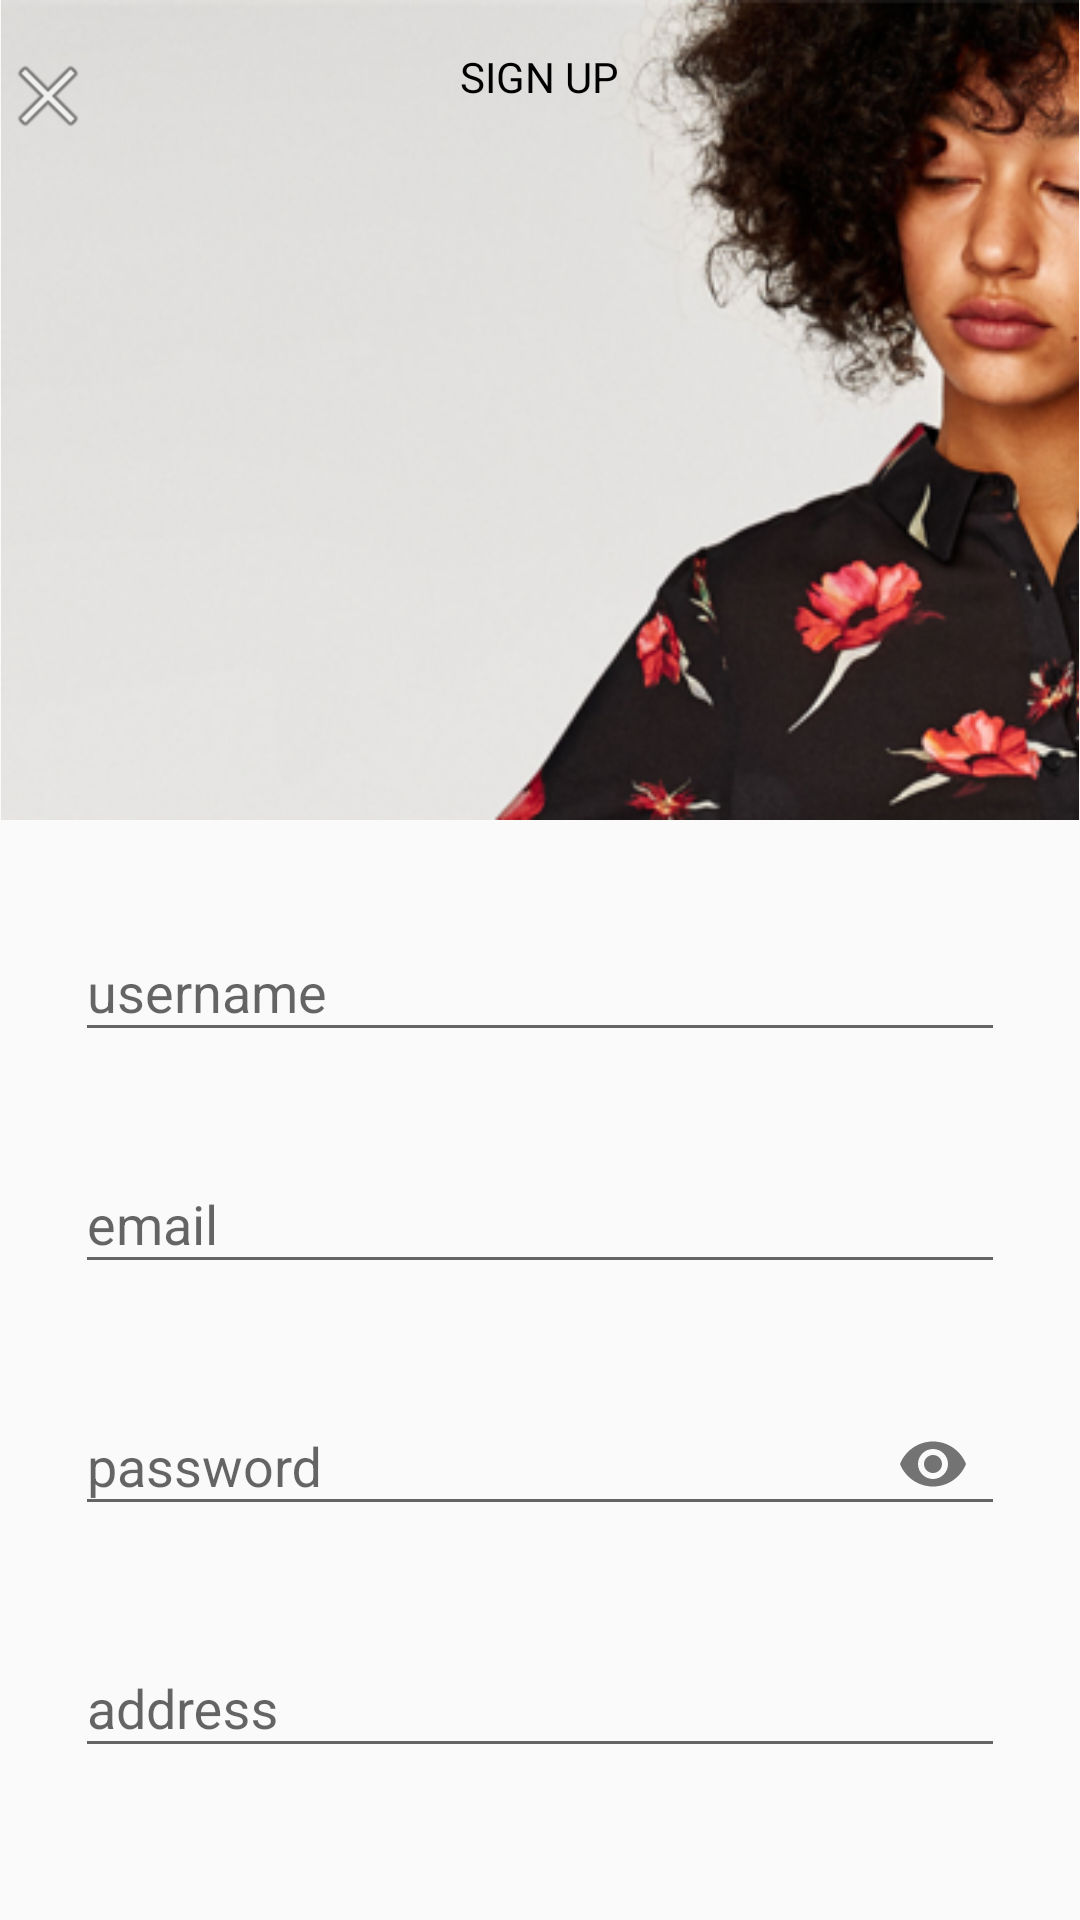

Where to tap for icons on this 1080w x 1920h app screen, as (x=x, y=y):
close clear cancel: (x=48, y=96)
